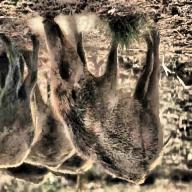boar: (29, 17, 188, 180)
